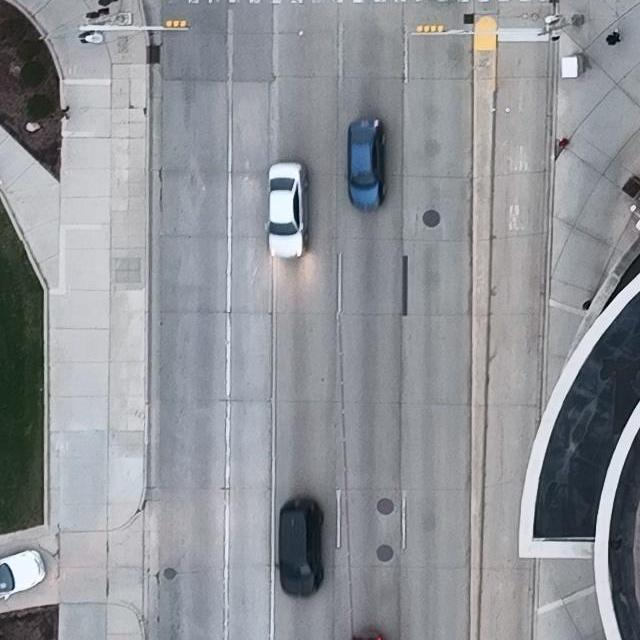car: (274, 495, 326, 597), (264, 160, 309, 258), (347, 117, 387, 212), (0, 549, 46, 602)
